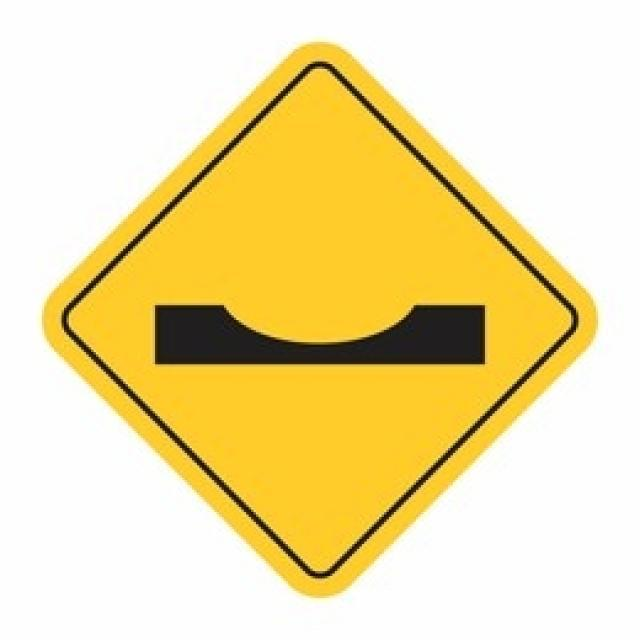dangerous dip: (45, 41, 600, 596)
